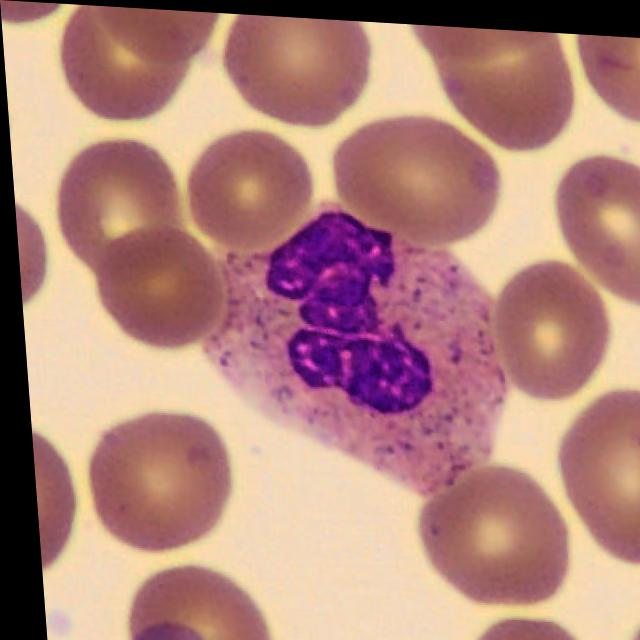Neutrofilo segmentado: (195, 203, 502, 492)
